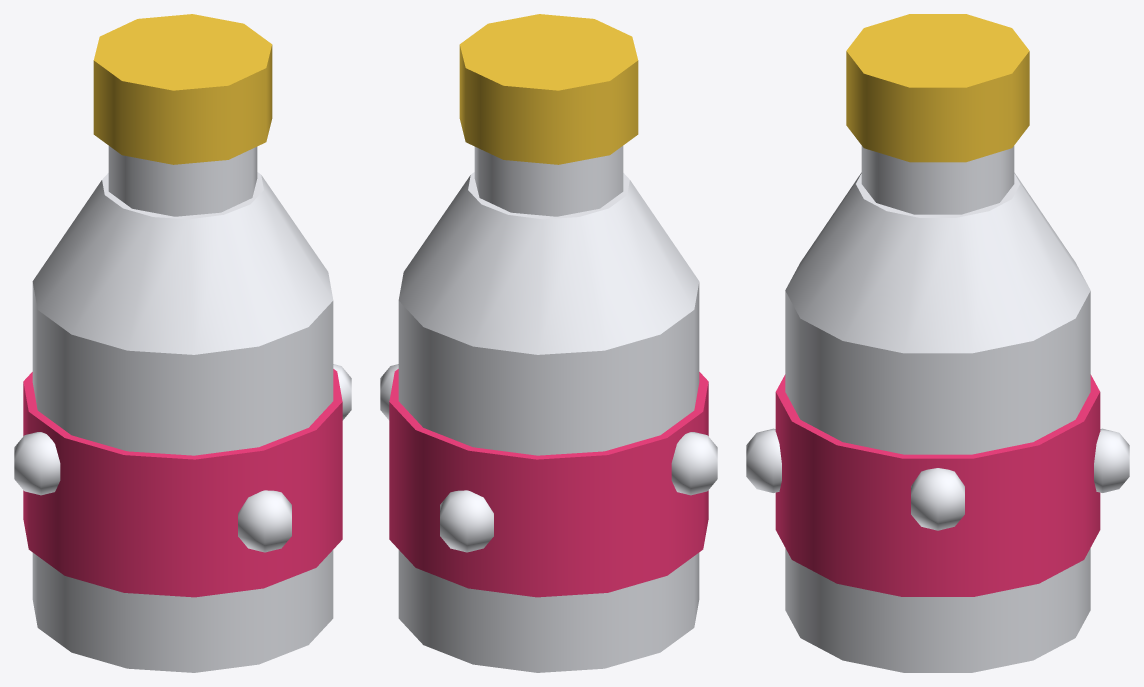
The model's file is bottle.glb.
3 views of the same model, side by side, from view 1: azimuth 30°, elevation 25°; view 2: azimuth 150°, elevation 25°; view 3: azimuth 270°, elevation 25° (orthographic).
Bounding box in the file's own units: 0.5832 × 0.9188 × 0.5707.
